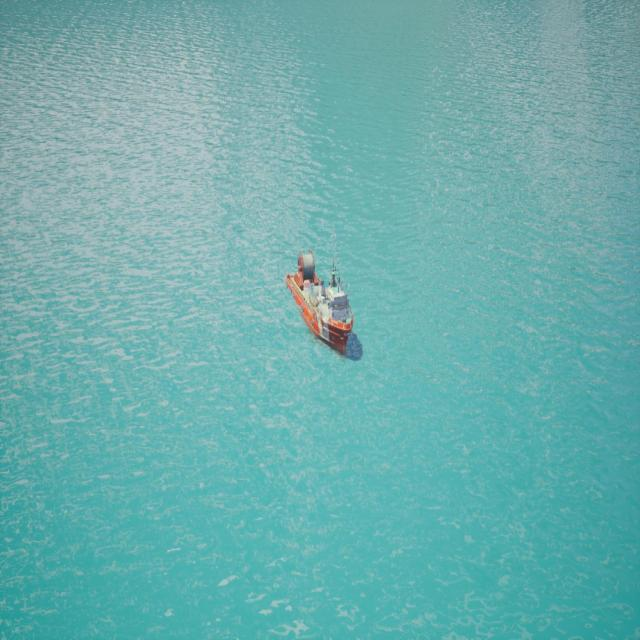tug boat: (280, 218, 364, 376)
